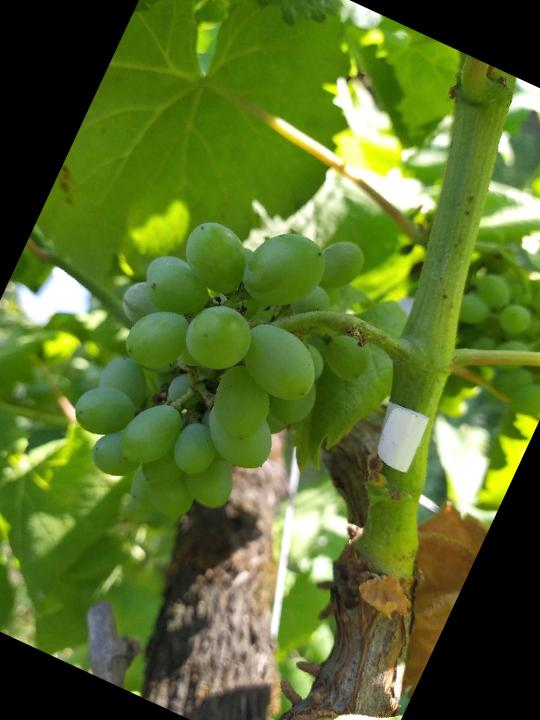grape: (43, 160, 415, 574)
